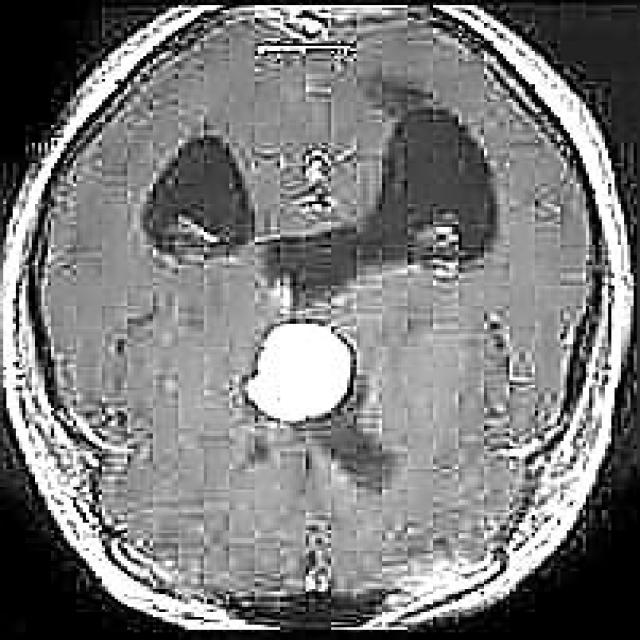Tumor-Cell: (253, 313, 365, 433)
